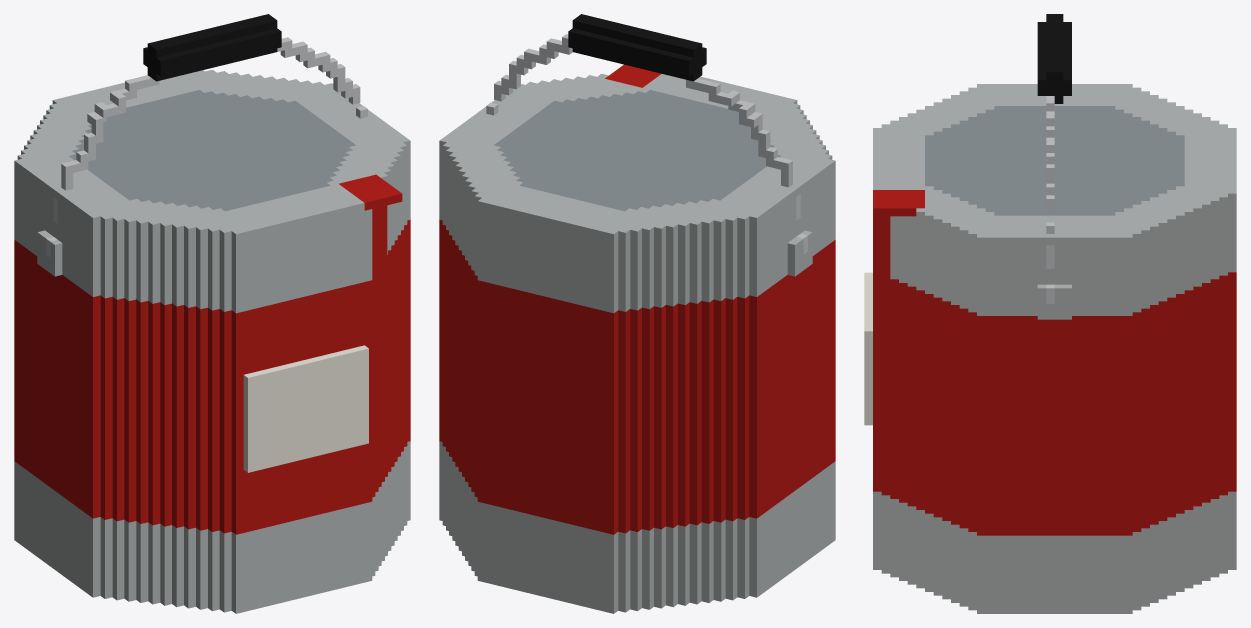
File: paint_red.glb
3 renders of one model, left to right at view 1: azimuth 30°, elevation 25°; view 2: azimuth 150°, elevation 25°; view 3: azimuth 270°, elevation 25°, orthographic.
Visible parts, largest first — view 1: paint_red:compound; view 2: paint_red:compound; view 3: paint_red:compound.
Boxes of the visible parts, <box> form: paint_red:compound: <box>14,14,410,613</box>; paint_red:compound: <box>439,14,835,613</box>; paint_red:compound: <box>864,14,1236,613</box>.
Size of the model in its own units: 0.176 by 0.252 by 0.172.
